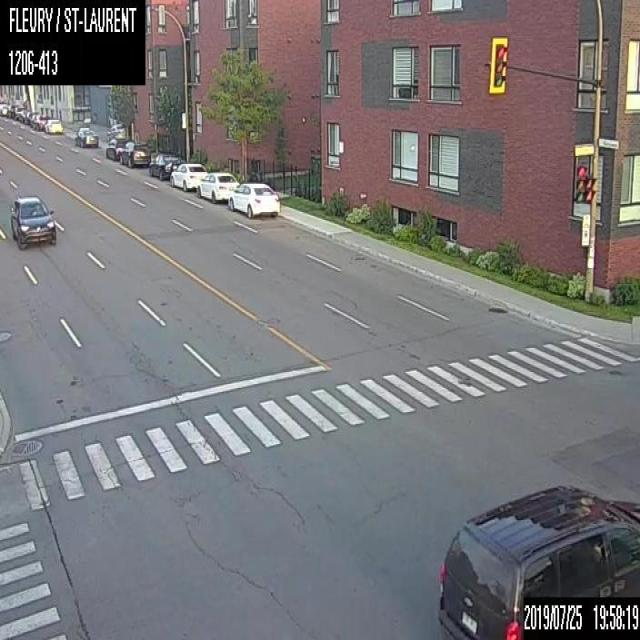vehicle: (436, 481, 639, 639), (520, 594, 639, 638), (9, 193, 56, 248), (227, 183, 279, 217), (196, 171, 239, 203), (169, 162, 207, 191), (148, 152, 185, 180), (118, 140, 150, 168), (74, 125, 97, 148), (105, 136, 127, 159), (32, 113, 49, 130), (44, 118, 62, 134)
